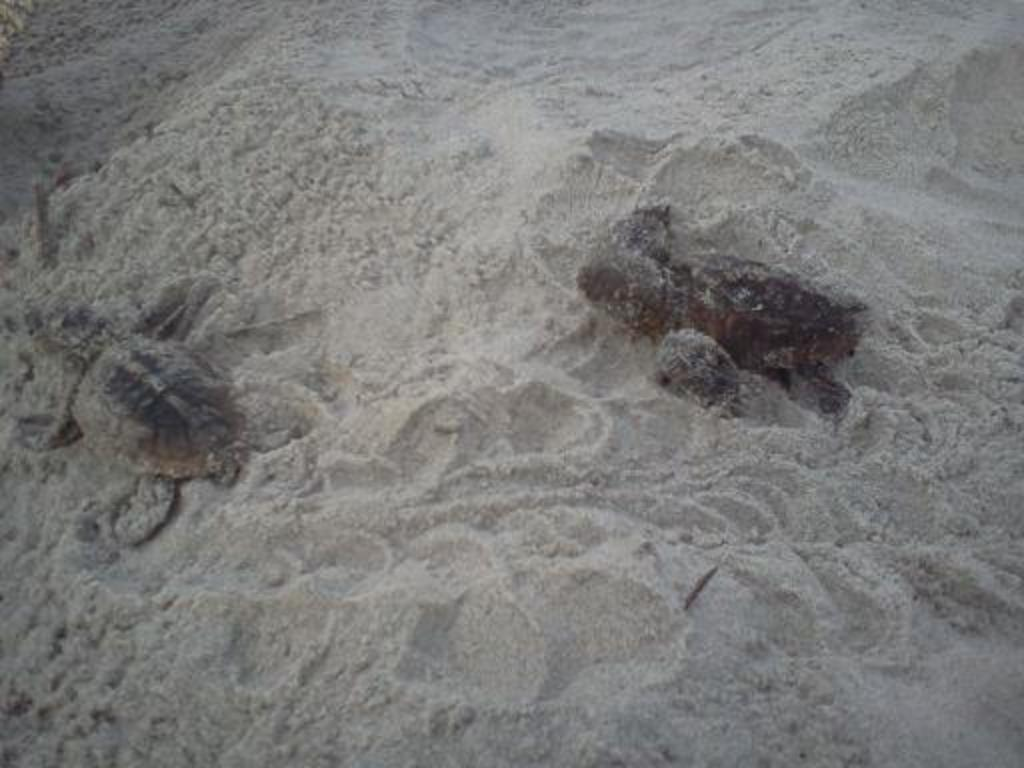Sea turtles: (574, 188, 871, 413), (30, 274, 254, 550)
